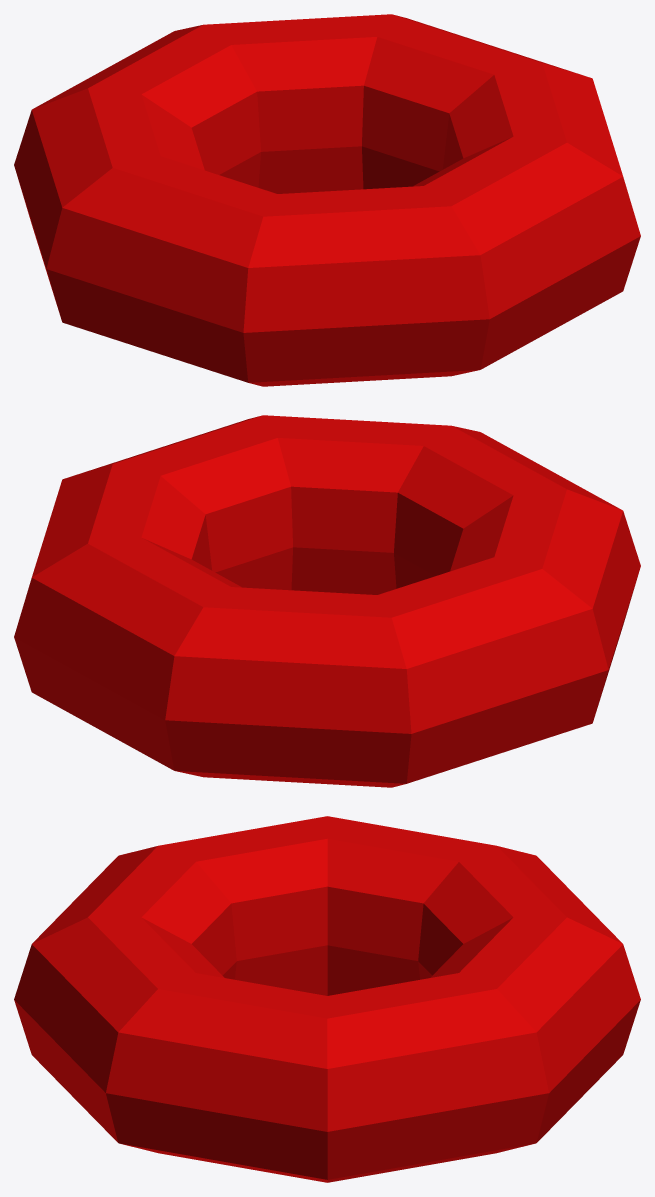
Rendered from RubyRing.fbx.
3 views of the same model, one above another, from view 1: azimuth 30°, elevation 25°; view 2: azimuth 150°, elevation 25°; view 3: azimuth 270°, elevation 25° (orthographic). The views are drawn at different scales.
Visible parts, largest first — view 1: RubyRing; view 2: RubyRing; view 3: RubyRing.
Part boxes in pixels (left/top/right/bottom): RubyRing: left=14, top=14, right=640, bottom=386; RubyRing: left=14, top=415, right=640, bottom=787; RubyRing: left=14, top=816, right=640, bottom=1182.
Bounding box in the file's own units: 0.0249 × 0.0072 × 0.0249.
